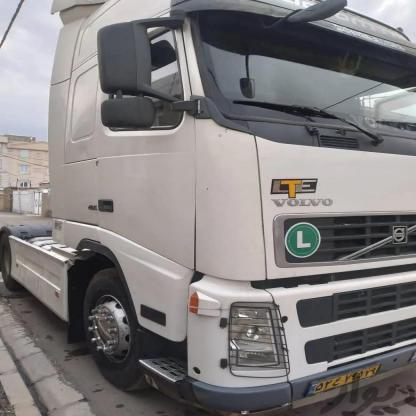Truck: (0, 0, 416, 409)
